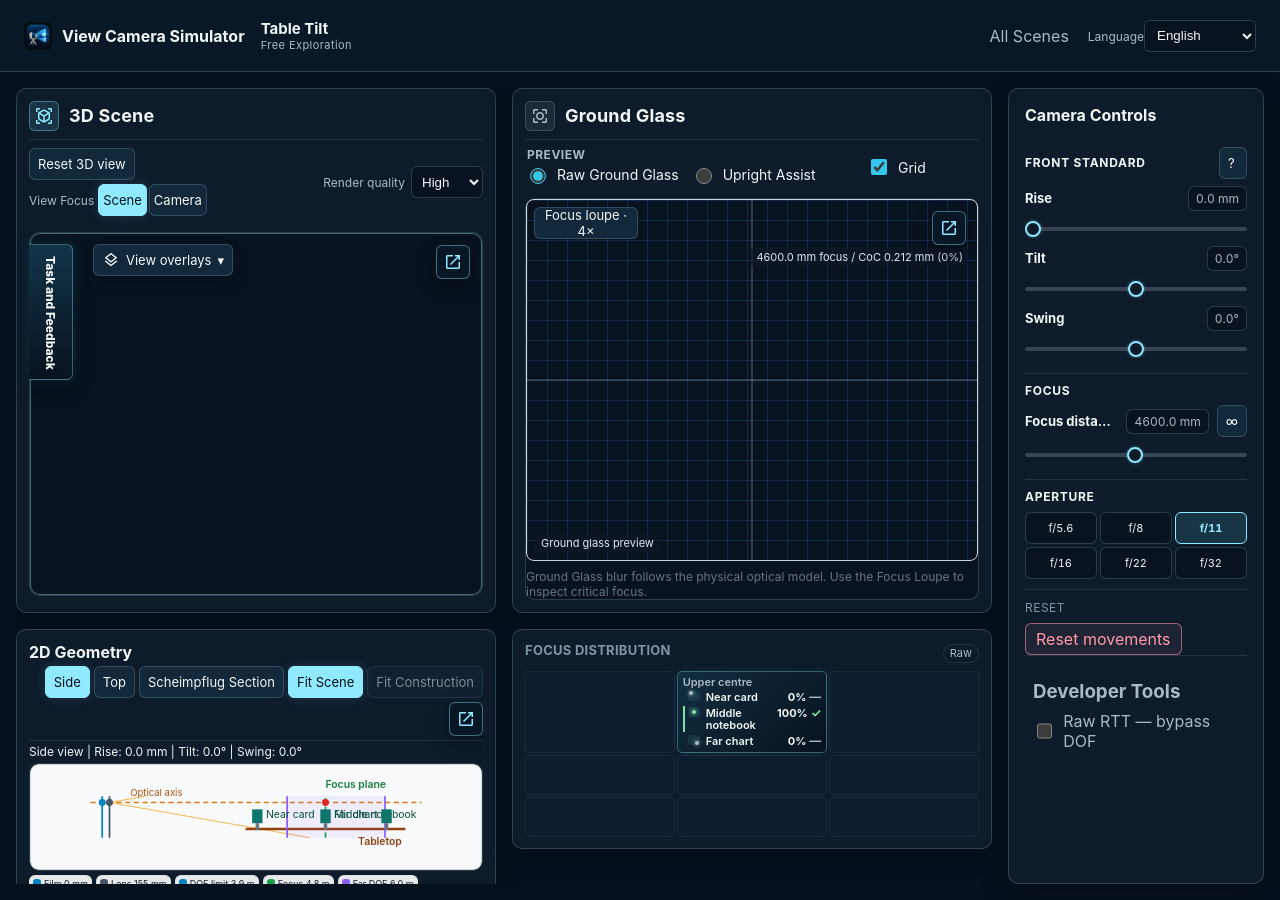
Test case: SimulatorWorkspace expanded Geometry accessibility › passes the application geometry view through the explicit viewport boundary
What coordinates should you click on to do the following:
click the button named "Expand 2D Geometry"
I would click on:
 (466, 719)
Its box is 449,702 -> 483,736.
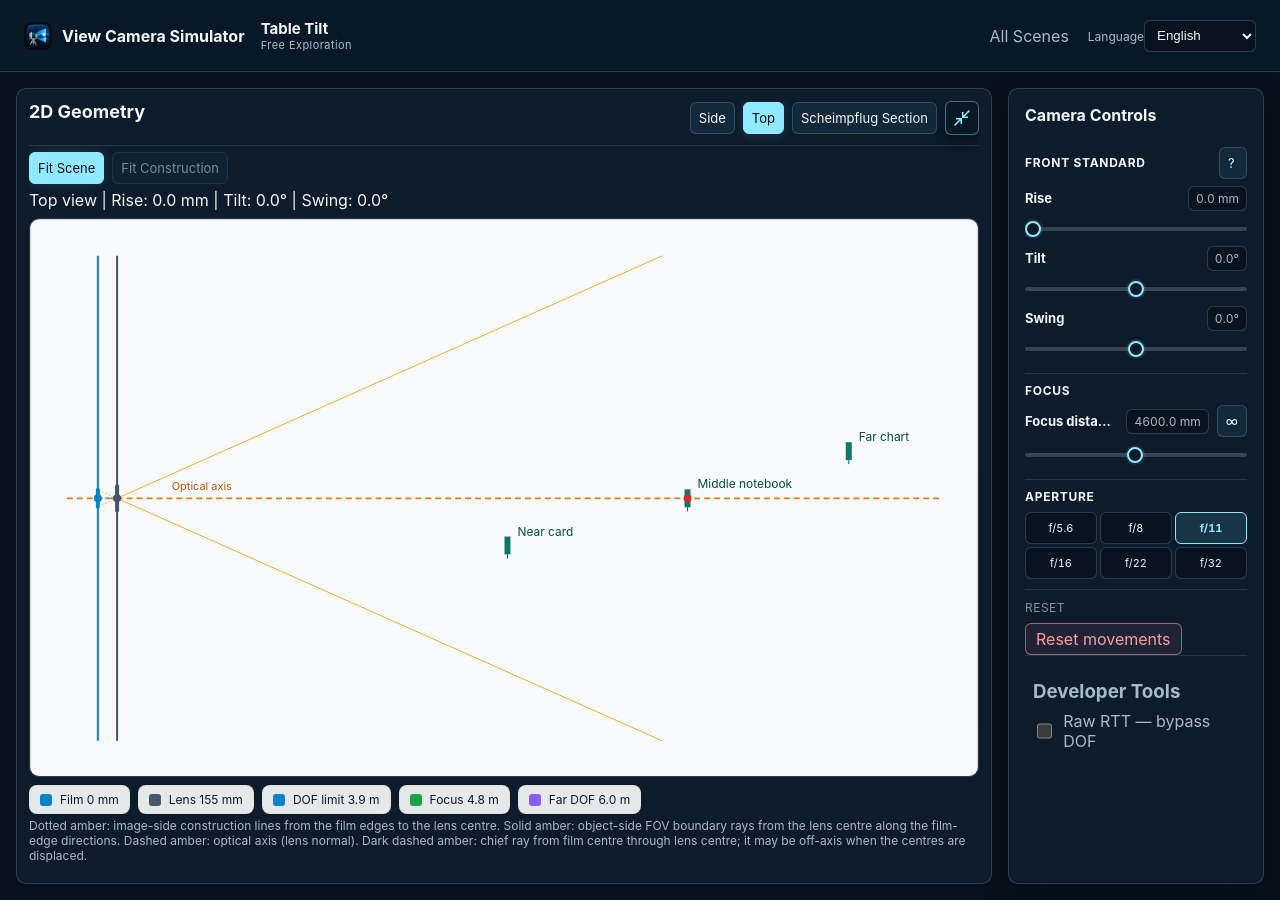
Result: the icon with test id "geometry-svg-top" is shown at 30,219 -> 978,777
What coordinates should you click on to do the following:
click the button "Side"
I would click on:
 (712, 118)
Its box is 690,102 -> 735,134.
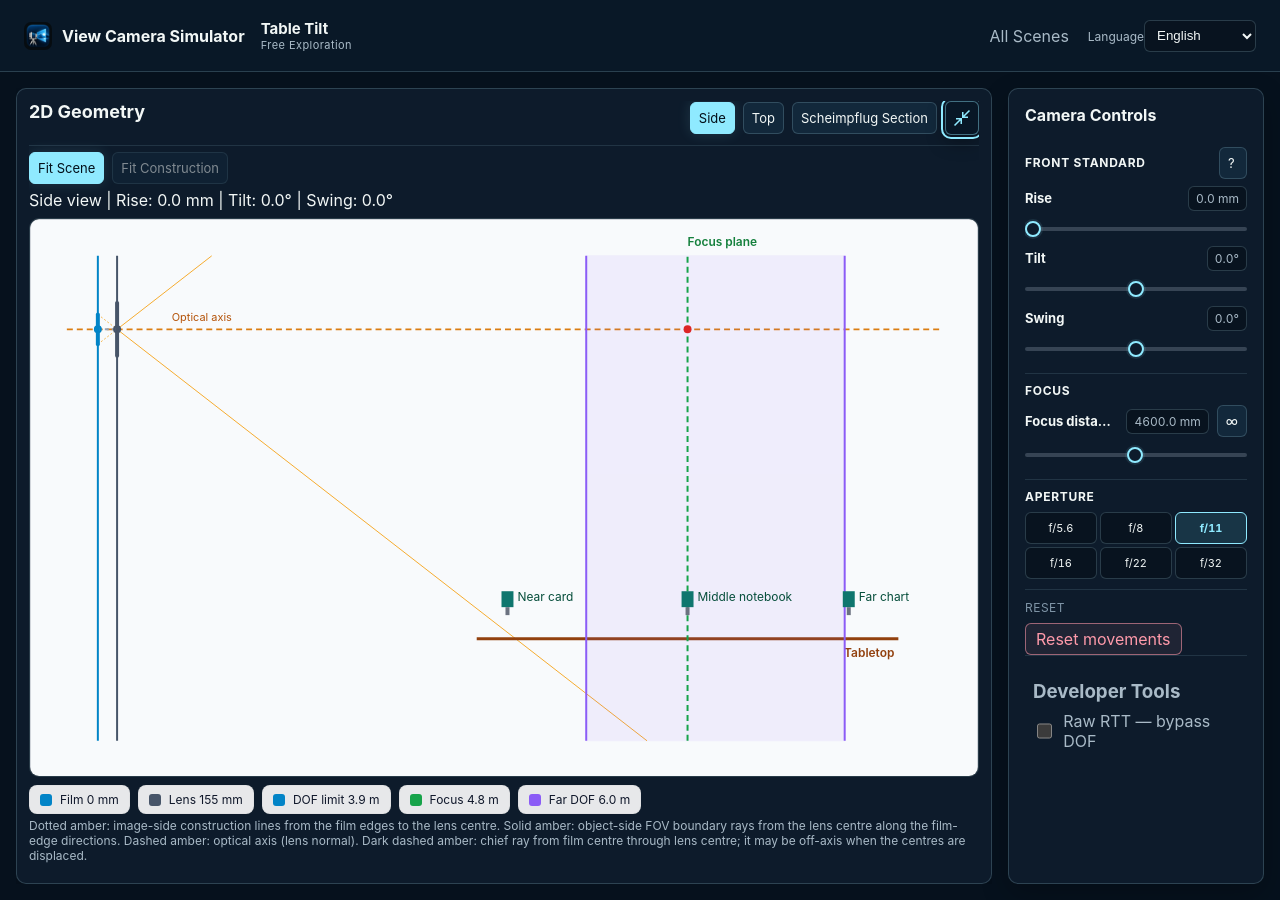
Result: the icon with test id "geometry-svg-side" is shown at 30,219 -> 978,777
